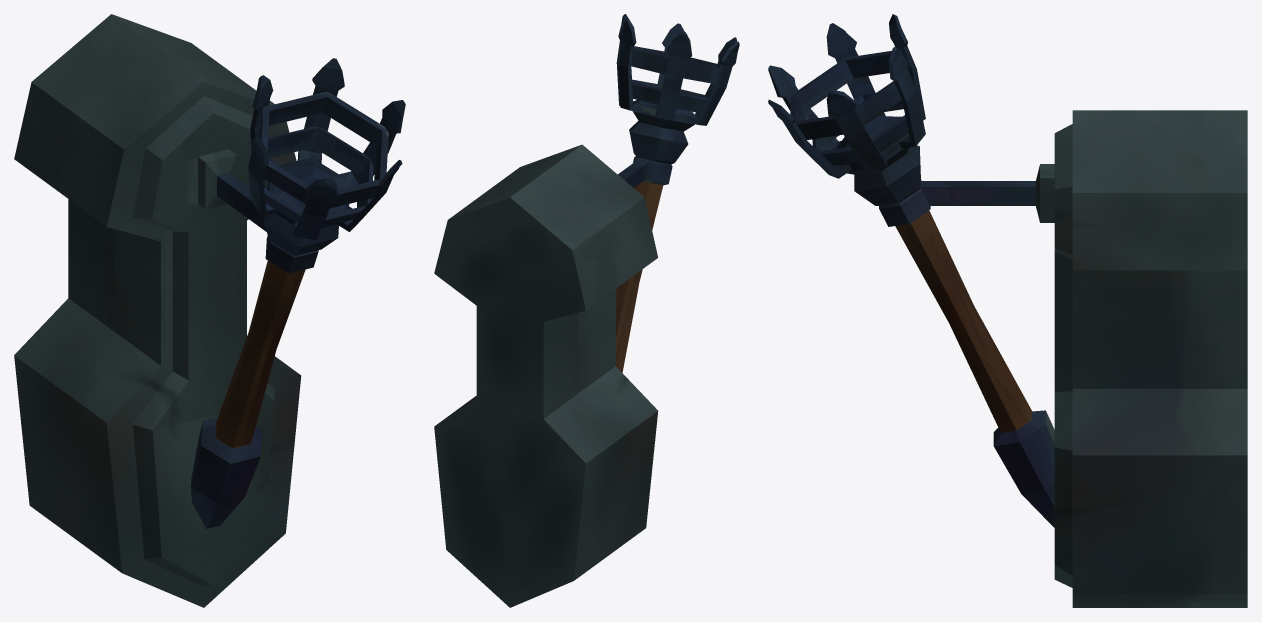
The model's file is Torch_Ornate_02.fbx.
3 renders of one model, left to right at view 1: azimuth 30°, elevation 25°; view 2: azimuth 150°, elevation 25°; view 3: azimuth 270°, elevation 25°, orthographic. The views are drawn at different scales.
Parts seen in each view (by area): view 1: Torch_Ornate_02; view 2: Torch_Ornate_02; view 3: Torch_Ornate_02.
Boxes of the visible parts, bbox=[...] form: Torch_Ornate_02: bbox=[14, 14, 405, 607]; Torch_Ornate_02: bbox=[434, 14, 739, 607]; Torch_Ornate_02: bbox=[768, 14, 1247, 607].
Size of the model in its own units: 0.2993 by 0.8972 by 0.6753.
1 material, 1 textured.
